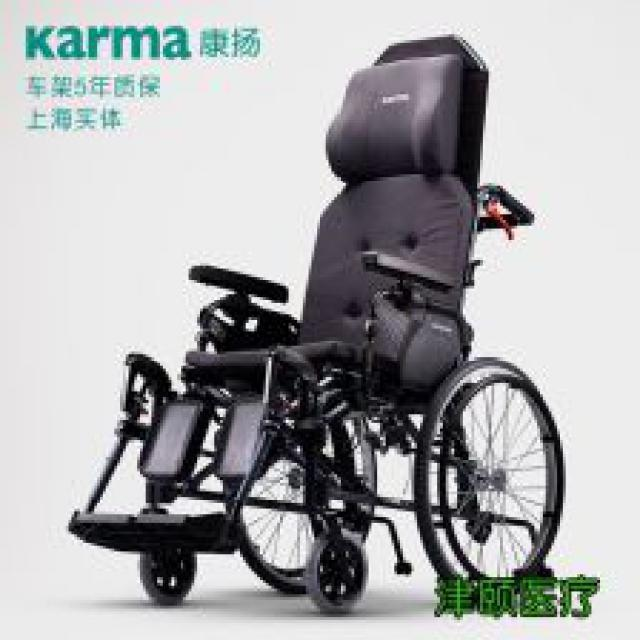wheelchairs: (77, 36, 564, 603)
